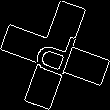P_S: (29, 25, 81, 85)
